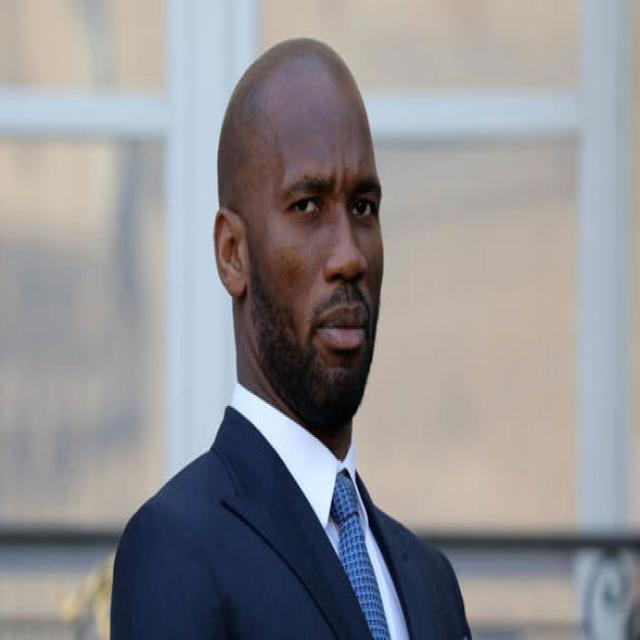human: (105, 31, 477, 640)
